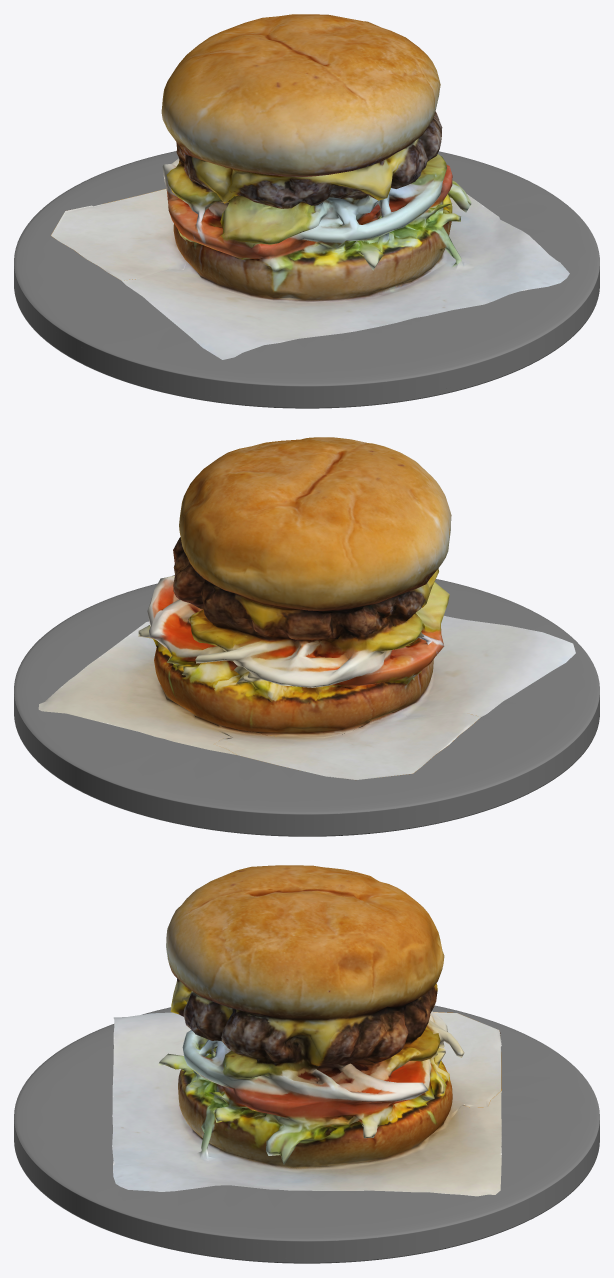
File: Burger_ZBEXPORT_V003.fbx
3 views of the same model, one above another, from view 1: azimuth 30°, elevation 25°; view 2: azimuth 150°, elevation 25°; view 3: azimuth 270°, elevation 25° (orthographic).
Parts seen in each view (by area): view 1: Burger_Low_Res, PM3D_Cylinder3D1; view 2: Burger_Low_Res, PM3D_Cylinder3D1; view 3: Burger_Low_Res, PM3D_Cylinder3D1.
Part boxes in pixels (left/top/right/bottom): Burger_Low_Res: left=51, top=14, right=569, bottom=359; PM3D_Cylinder3D1: left=14, top=151, right=599, bottom=408; Burger_Low_Res: left=38, top=437, right=575, bottom=780; PM3D_Cylinder3D1: left=14, top=579, right=599, bottom=836; Burger_Low_Res: left=112, top=865, right=501, bottom=1196; PM3D_Cylinder3D1: left=14, top=1005, right=599, bottom=1263.
Bounding box in the file's own units: 46.63 × 21.81 × 46.63.
Materials: 2 (1 with a texture image).
